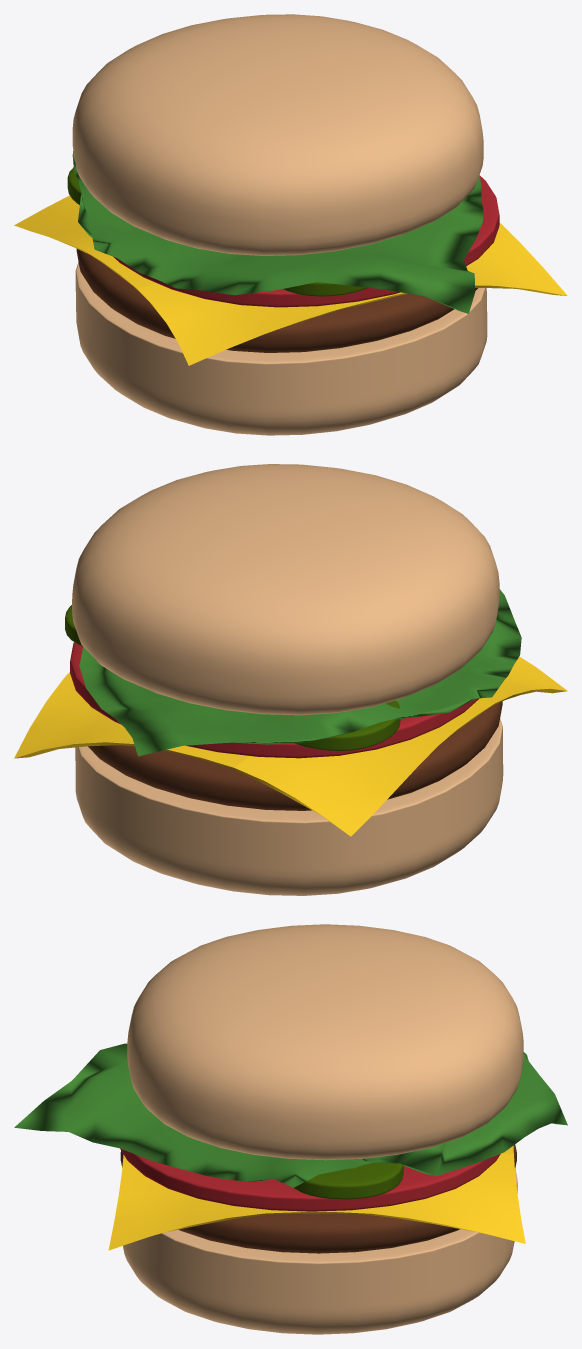
Rendered from hamburger.glb.
The picture shows the model from 3 angles, top to bottom: view 1: azimuth 30°, elevation 25°; view 2: azimuth 150°, elevation 25°; view 3: azimuth 270°, elevation 25°; orthographic projection. The views are drawn at different scales.
Visible parts, largest first — view 1: Cube.002, Cube, Plane.001, Plane, Cube.001, tomatoUno.002, Pickle; view 2: Cube.002, Cube, Plane, Plane.001, Cube.001, tomatoUno.002, Pickle.002; view 3: Cube.002, Cube, Plane.001, Plane, Cube.001, tomatoUno.002, Pickle.001.
Boxes of the visible parts, <box> form: Cube.002: <box>72,14,483,255</box>; Cube: <box>75,262,487,435</box>; Plane.001: <box>72,151,483,313</box>; Plane: <box>14,195,567,365</box>; Cube.001: <box>76,248,477,352</box>; tomatoUno.002: <box>113,175,499,307</box>; Pickle: <box>283,282,367,296</box>; Cube.002: <box>72,464,499,715</box>; Cube: <box>75,718,503,895</box>; Plane: <box>14,656,567,836</box>; Plane.001: <box>79,589,521,756</box>; Cube.001: <box>88,701,502,810</box>; tomatoUno.002: <box>70,642,479,758</box>; Pickle.002: <box>295,700,400,750</box>; Cube.002: <box>127,924,523,1160</box>; Cube: <box>123,1169,517,1334</box>; Plane.001: <box>14,1043,567,1187</box>; Plane: <box>108,1145,525,1250</box>; Cube.001: <box>120,1144,516,1253</box>; tomatoUno.002: <box>120,1148,500,1211</box>; Pickle.001: <box>294,1162,403,1199</box>.
Bounding box in the file's own units: 20.21 × 15.74 × 25.62.
